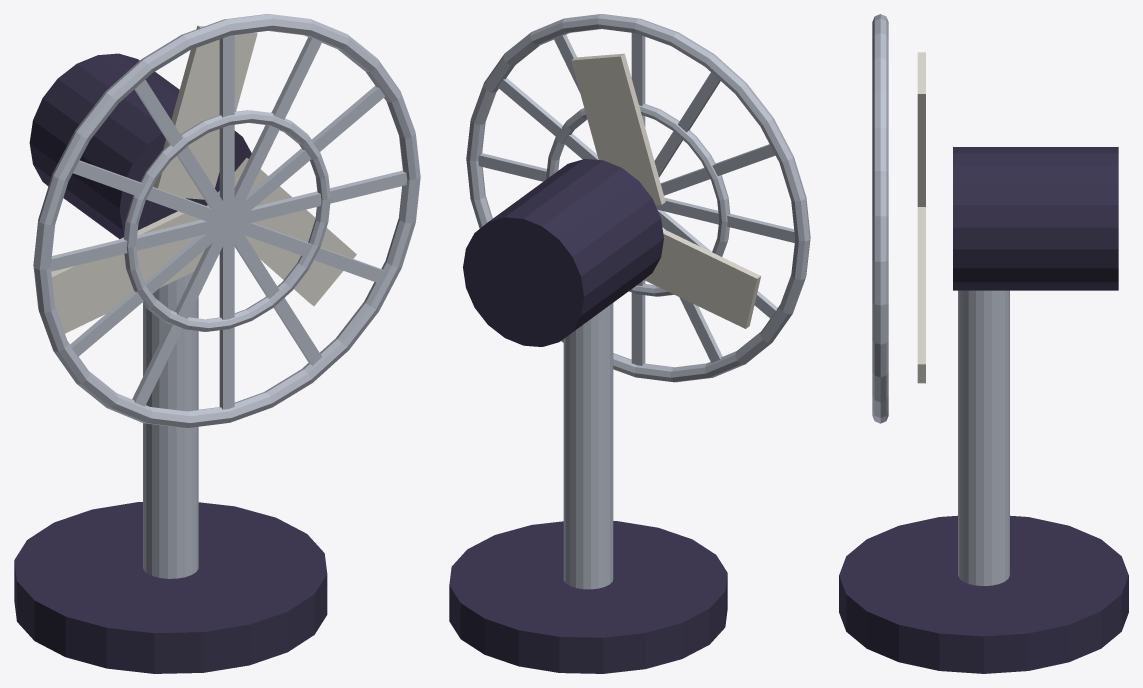
The model's file is ventilatore_tavolo.glb.
The picture shows the model from 3 angles, left to right: view 1: azimuth 30°, elevation 25°; view 2: azimuth 150°, elevation 25°; view 3: azimuth 270°, elevation 25°; orthographic projection. The views are drawn at different scales.
Visible parts, largest first — view 1: base, gabbia, motore, stelo, gabbia2, pala, pala.002, raggio, raggio.001, raggio.002, raggio.003, raggio.005 (+2 smaller); view 2: base, motore, gabbia, stelo, pala, pala.002, gabbia2, raggio.003, raggio.002, raggio, raggio.004, raggio.001 (+1 smaller); view 3: base, motore, stelo, gabbia, pala.001, pala.
Part boxes in pixels (left/top/right/bottom): base: left=14, top=502, right=327, bottom=673; gabbia: left=33, top=14, right=420, bottom=428; motore: left=29, top=53, right=251, bottom=239; stelo: left=143, top=272, right=198, bottom=578; gabbia2: left=123, top=110, right=330, bottom=331; pala: left=153, top=25, right=257, bottom=199; pala.002: left=51, top=211, right=204, bottom=333; raggio: left=219, top=35, right=234, bottom=409; raggio.001: left=132, top=37, right=321, bottom=406; raggio.002: left=70, top=86, right=385, bottom=356; raggio.003: left=50, top=170, right=406, bottom=271; raggio.005: left=134, top=79, right=321, bottom=365; base: left=449, top=521, right=727, bottom=673; motore: left=463, top=159, right=663, bottom=346; gabbia: left=466, top=14, right=810, bottom=382; stelo: left=563, top=303, right=613, bottom=589; pala: left=571, top=53, right=665, bottom=205; pala.002: left=644, top=229, right=760, bottom=328; gabbia2: left=546, top=104, right=730, bottom=296; raggio.003: left=478, top=153, right=795, bottom=242; raggio.002: left=497, top=78, right=777, bottom=318; raggio: left=631, top=33, right=645, bottom=365; raggio.004: left=660, top=144, right=775, bottom=195; raggio.001: left=554, top=35, right=722, bottom=362; base: left=839, top=515, right=1128, bottom=673; motore: left=953, top=147, right=1118, bottom=290; stelo: left=958, top=290, right=1009, bottom=585; gabbia: left=872, top=14, right=888, bottom=423; pala.001: left=917, top=207, right=925, bottom=383; pala: left=917, top=52, right=925, bottom=206.
Bounding box in the file's own units: 0.396 × 0.618 × 0.28.
